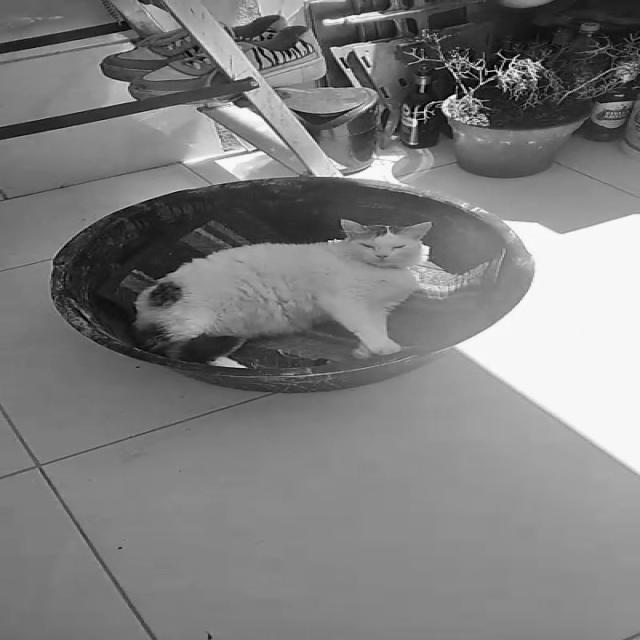Simba: (103, 210, 533, 364)
